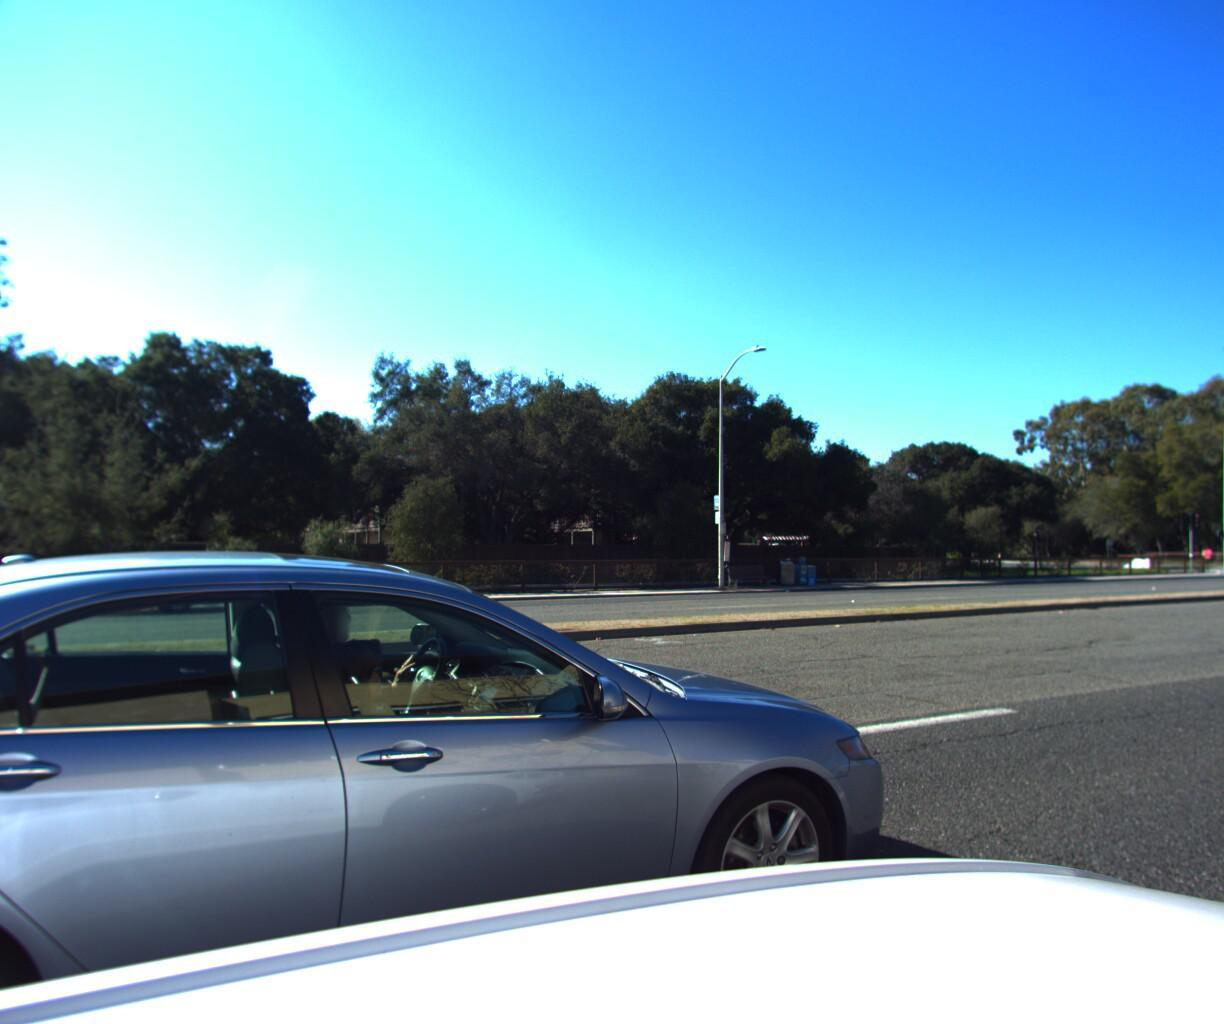car: (0, 519, 924, 1024), (0, 552, 232, 623)
